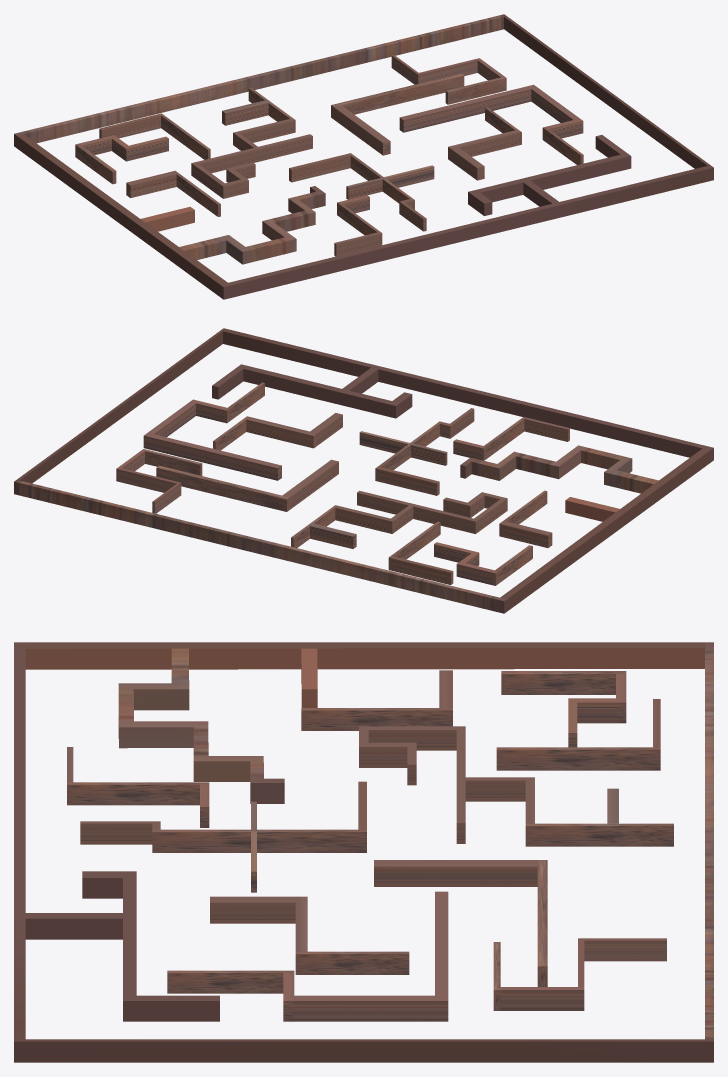
File:  Finalmaze.fbx
3 renders of one model, top to bottom at view 1: azimuth 30°, elevation 25°; view 2: azimuth 150°, elevation 25°; view 3: azimuth 270°, elevation 25°, orthographic. The views are drawn at different scales.
Visible parts, largest first — view 1: Cube, Cube.007, Cube.001, Cube.005, Cube.004, Cube.003, Cube.002, Cube.009, Cube.008, Cube.006, Cube.010; view 2: Cube, Cube.007, Cube.001, Cube.005, Cube.004, Cube.003, Cube.002, Cube.009, Cube.006, Cube.008, Cube.010; view 3: Cube, Cube.007, Cube.001, Cube.005, Cube.002, Cube.004, Cube.003, Cube.009, Cube.008, Cube.006, Cube.010.
Part boxes in pixels (left/top/right/bottom): Cube: left=14, top=14, right=713, bottom=299; Cube.007: left=191, top=87, right=312, bottom=198; Cube.001: left=399, top=84, right=583, bottom=164; Cube.005: left=289, top=153, right=434, bottom=231; Cube.004: left=331, top=73, right=464, bottom=155; Cube.003: left=391, top=55, right=506, bottom=104; Cube.002: left=448, top=107, right=521, bottom=180; Cube.009: left=75, top=135, right=168, bottom=184; Cube.008: left=99, top=113, right=210, bottom=159; Cube.006: left=334, top=195, right=382, bottom=256; Cube.010: left=126, top=170, right=220, bottom=216; Cube: left=14, top=328, right=713, bottom=613; Cube.007: left=291, top=490, right=507, bottom=548; Cube.001: left=143, top=382, right=281, bottom=480; Cube.005: left=359, top=408, right=474, bottom=495; Cube.004: left=156, top=459, right=338, bottom=511; Cube.003: left=116, top=449, right=202, bottom=513; Cube.002: left=213, top=413, right=342, bottom=450; Cube.009: left=434, top=542, right=532, bottom=585; Cube.006: left=453, top=417, right=569, bottom=460; Cube.008: left=388, top=521, right=453, bottom=584; Cube.010: left=499, top=490, right=552, bottom=547; Cube: left=14, top=642, right=713, bottom=1062; Cube.007: left=359, top=726, right=673, bottom=846; Cube.001: left=167, top=891, right=448, bottom=1021; Cube.005: left=80, top=781, right=366, bottom=892; Cube.002: left=210, top=896, right=409, bottom=974; Cube.004: left=374, top=860, right=547, bottom=986; Cube.003: left=493, top=938, right=666, bottom=1010; Cube.009: left=501, top=671, right=626, bottom=747; Cube.008: left=496, top=699, right=660, bottom=770; Cube.006: left=67, top=747, right=209, bottom=827; Cube.010: left=301, top=670, right=452, bottom=730.
Bounding box in the file's own units: 101570 × 2476 × 75250.
